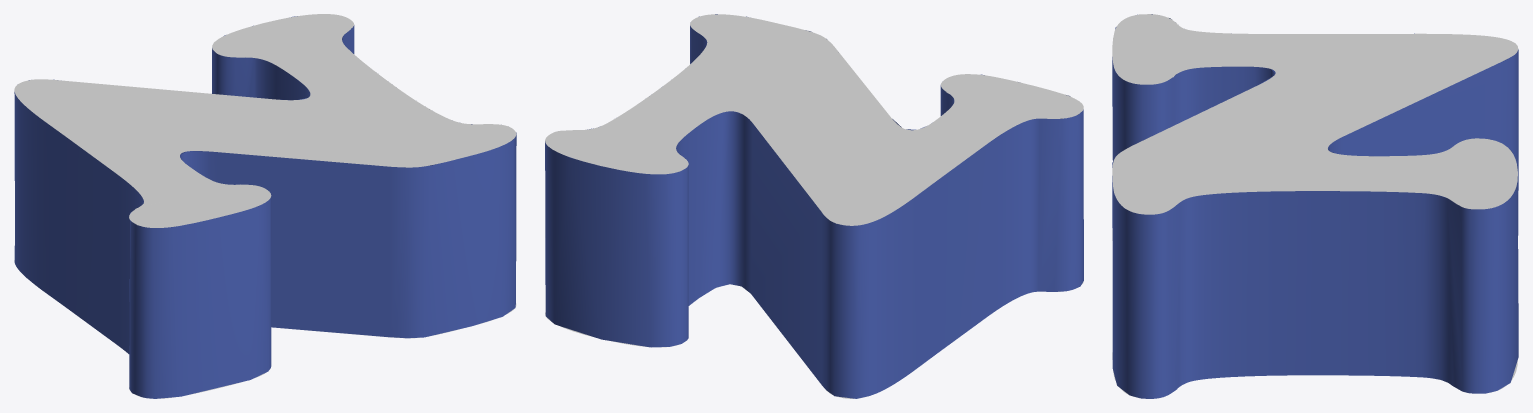
3 views of the same model, side by side, from view 1: azimuth 30°, elevation 25°; view 2: azimuth 150°, elevation 25°; view 3: azimuth 270°, elevation 25° (orthographic). The views are drawn at different scales.
Parts seen in each view (by area): view 1: N; view 2: N; view 3: N.
Part boxes in pixels (x1,y1,x2,y2): N: (14, 14, 516, 398); N: (545, 14, 1083, 398); N: (1112, 14, 1518, 398).
Size of the model in its own units: 1.72 by 0.736 by 1.47.
